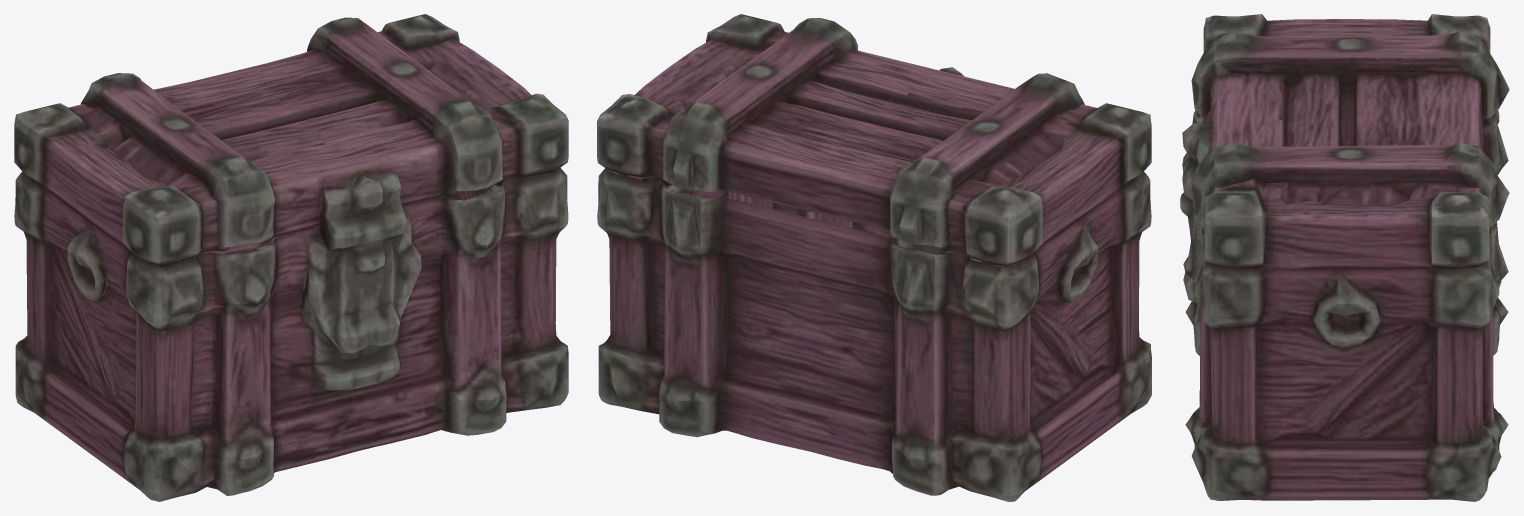
File: chest_iron_a.glb
The picture shows the model from 3 angles, left to right: view 1: azimuth 30°, elevation 25°; view 2: azimuth 150°, elevation 25°; view 3: azimuth 270°, elevation 25°; orthographic projection.
Bounding box in the file's own units: 1.91 × 1.37 × 1.26.
1 material, 1 textured.
